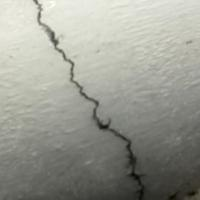crack: (29, 0, 191, 199)
